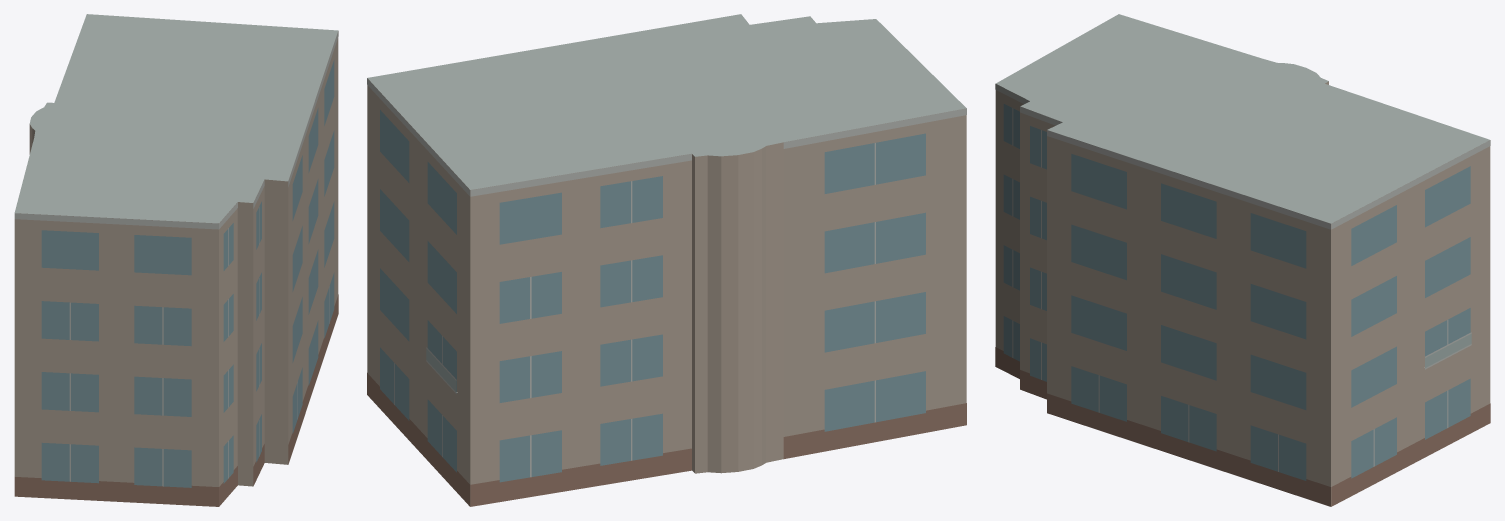
File: survey-upis-32925096.glb
The picture shows the model from 3 angles, left to right: view 1: azimuth 30°, elevation 25°; view 2: azimuth 150°, elevation 25°; view 3: azimuth 270°, elevation 25°; orthographic projection. The views are drawn at different scales.
Visible parts, largest first — view 1: survey-upis-32925096.tmp; view 2: survey-upis-32925096.tmp; view 3: survey-upis-32925096.tmp.
Part boxes in pixels (left/top/right/bottom): survey-upis-32925096.tmp: left=14, top=14, right=338, bottom=506; survey-upis-32925096.tmp: left=367, top=14, right=966, bottom=506; survey-upis-32925096.tmp: left=995, top=14, right=1490, bottom=506.
Bounding box in the file's own units: 18.11 × 11.4 × 18.06.
